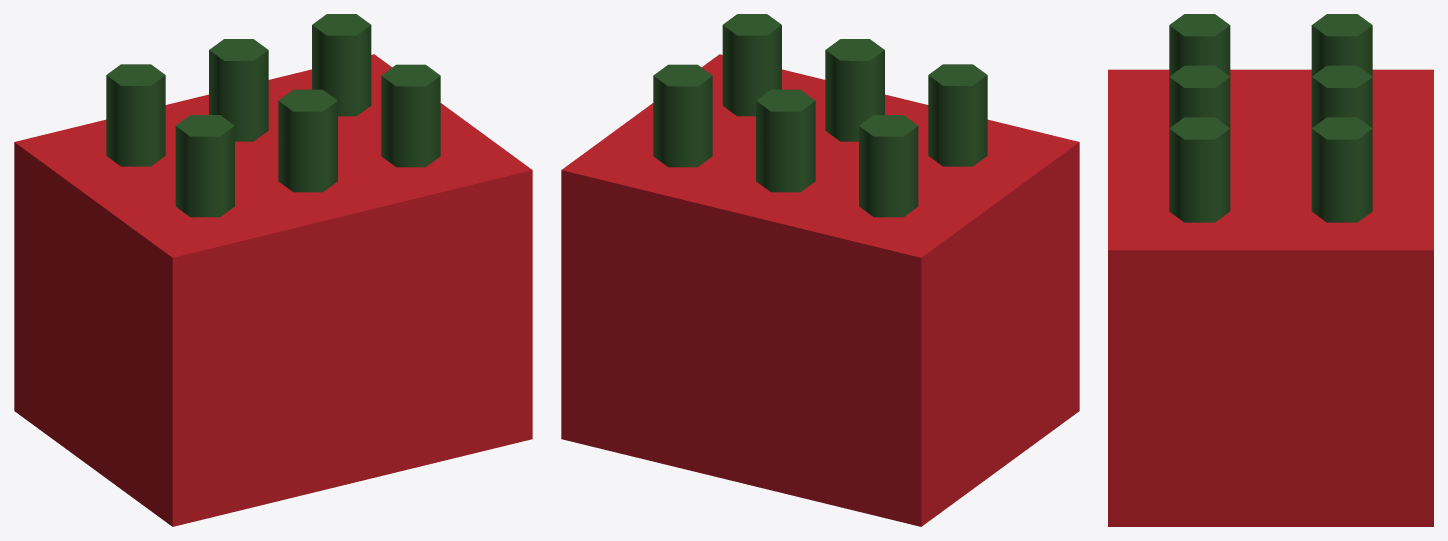
File: trash-crate.obj
The picture shows the model from 3 angles, left to right: view 1: azimuth 30°, elevation 25°; view 2: azimuth 150°, elevation 25°; view 3: azimuth 270°, elevation 25°; orthographic projection. The views are drawn at different scales.
Visible parts, largest first — view 1: part1, part5.nocast, part7.nocast, part3.nocast, part2.nocast, part6.nocast, part4.nocast; view 2: part1, part4.nocast, part6.nocast, part2.nocast, part3.nocast, part7.nocast, part5.nocast; view 3: part1, part6.nocast, part7.nocast, part4.nocast, part5.nocast, part2.nocast, part3.nocast.
Boxes of the visible parts, box(x1,y1,x2,y2) form: part1: box(14, 54, 532, 526); part5.nocast: box(278, 89, 337, 192); part7.nocast: box(381, 64, 440, 167); part3.nocast: box(175, 115, 234, 217); part2.nocast: box(106, 64, 165, 166); part6.nocast: box(312, 14, 371, 116); part4.nocast: box(209, 39, 268, 141); part1: box(561, 54, 1079, 526); part4.nocast: box(756, 89, 815, 192); part6.nocast: box(653, 64, 712, 167); part2.nocast: box(859, 115, 918, 217); part3.nocast: box(928, 64, 987, 166); part7.nocast: box(722, 14, 781, 116); part5.nocast: box(825, 39, 884, 141); part1: box(1108, 69, 1433, 526); part6.nocast: box(1311, 117, 1372, 222); part7.nocast: box(1169, 117, 1230, 222); part4.nocast: box(1311, 65, 1372, 127); part5.nocast: box(1169, 65, 1230, 127); part2.nocast: box(1311, 14, 1372, 76); part3.nocast: box(1169, 14, 1230, 76).
Size of the model in its own units: 0.42 by 0.39 by 0.32.
